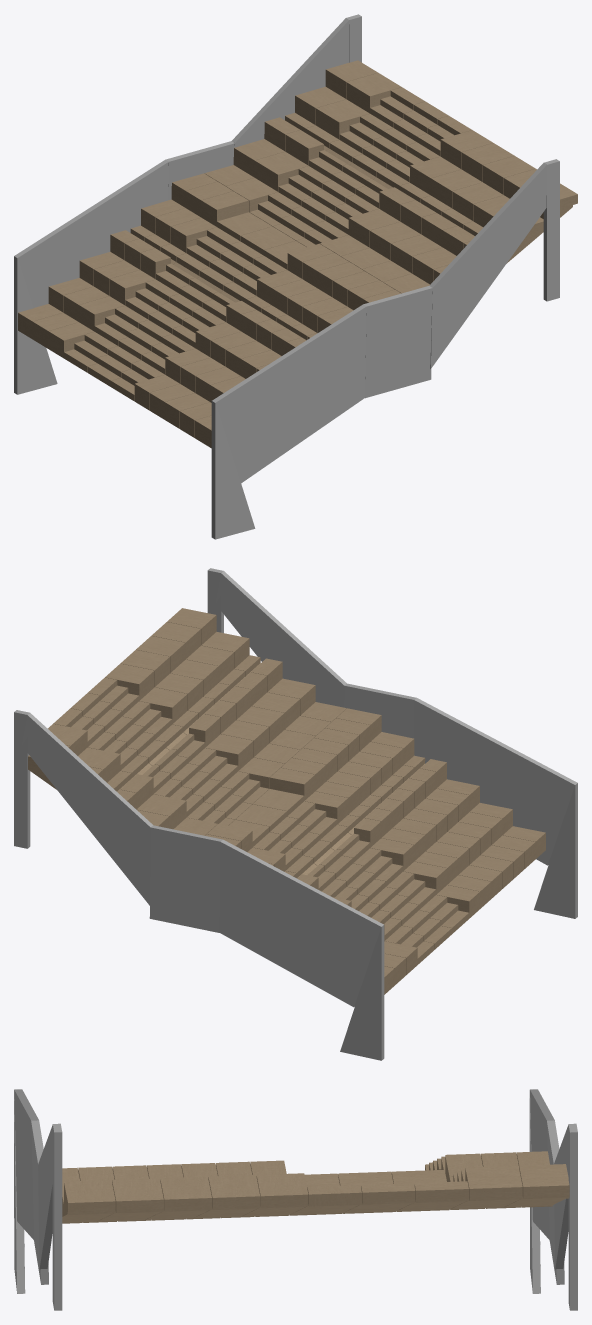
The model's file is penta_stair.fbx.
3 renders of one model, top to bottom at view 1: azimuth 30°, elevation 25°; view 2: azimuth 150°, elevation 25°; view 3: azimuth 270°, elevation 25°, orthographic. The views are drawn at different scales.
Parts seen in each view (by area): view 1: BMS_Tribune, pasted__pasted__pasted__pCube2, pasted__pasted__pCube2; view 2: BMS_Tribune, pasted__pasted__pCube2, pasted__pasted__pasted__pCube2; view 3: BMS_Tribune, pasted__pasted__pasted__pCube2, pasted__pasted__pCube2.
Part boxes in pixels (box(x1,y1,x2,y2)): BMS_Tribune: box(18, 60, 577, 448); pasted__pasted__pasted__pCube2: box(211, 159, 559, 539); pasted__pasted__pCube2: box(14, 14, 361, 394); BMS_Tribune: box(28, 608, 545, 994); pasted__pasted__pCube2: box(14, 710, 384, 1060); pasted__pasted__pasted__pCube2: box(207, 568, 577, 918); BMS_Tribune: box(62, 1151, 569, 1223); pasted__pasted__pasted__pCube2: box(14, 1089, 62, 1310); pasted__pasted__pCube2: box(529, 1089, 577, 1310).
Bounding box in the file's own units: 3514 × 2444 × 3429.
Materials: 2 (1 with a texture image).
